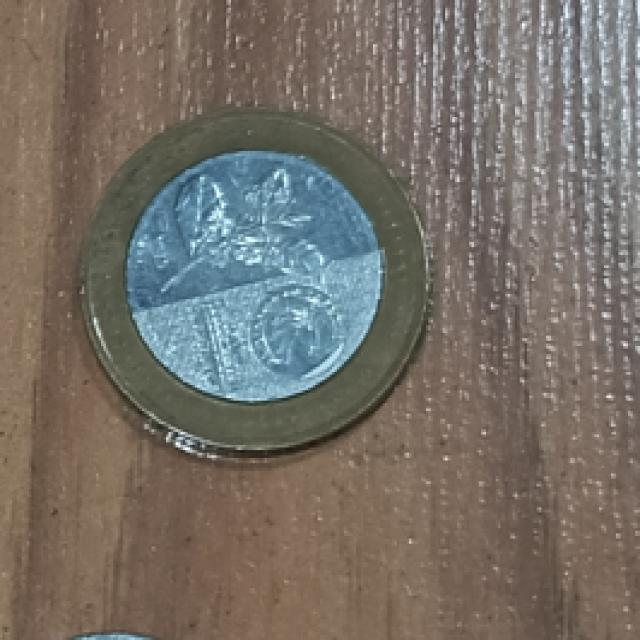20_peso: (82, 109, 428, 453)
